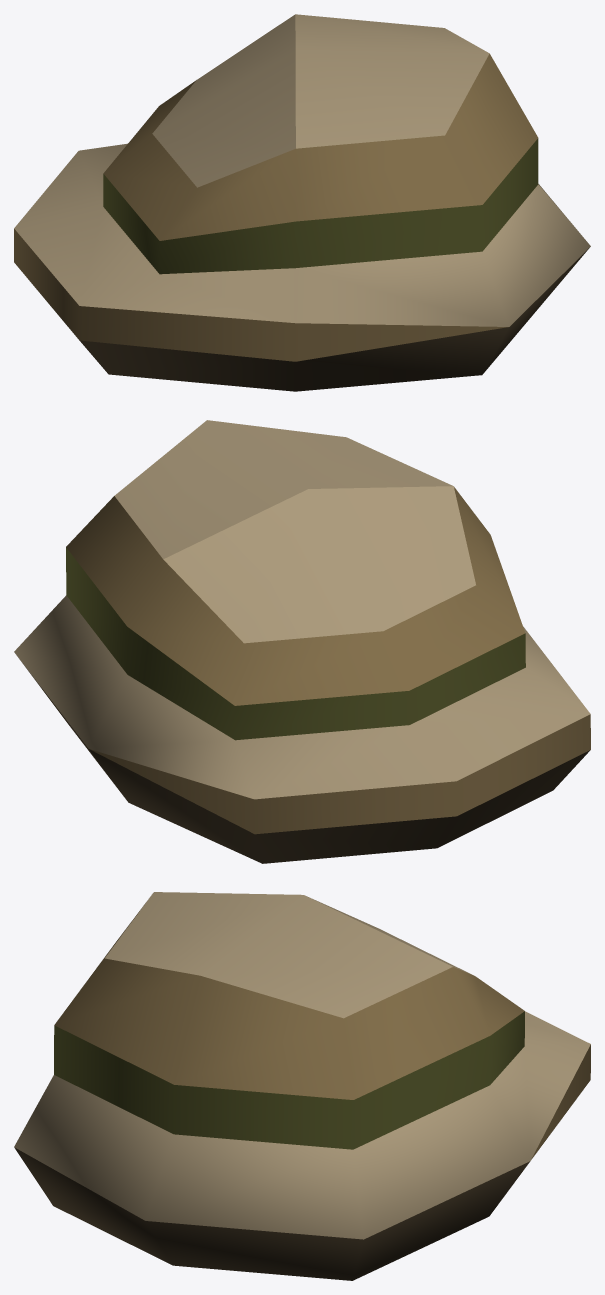
File: Rock_02.fbx
3 renders of one model, top to bottom at view 1: azimuth 30°, elevation 25°; view 2: azimuth 150°, elevation 25°; view 3: azimuth 270°, elevation 25°, orthographic. The views are drawn at different scales.
Parts seen in each view (by area): view 1: Rock_02; view 2: Rock_02; view 3: Rock_02.
Boxes of the visible parts, x1,y1,x2,y2 form: Rock_02: (14, 14, 590, 391); Rock_02: (14, 420, 590, 863); Rock_02: (14, 892, 590, 1280).
Size of the model in its own units: 1004 by 499 by 941.
